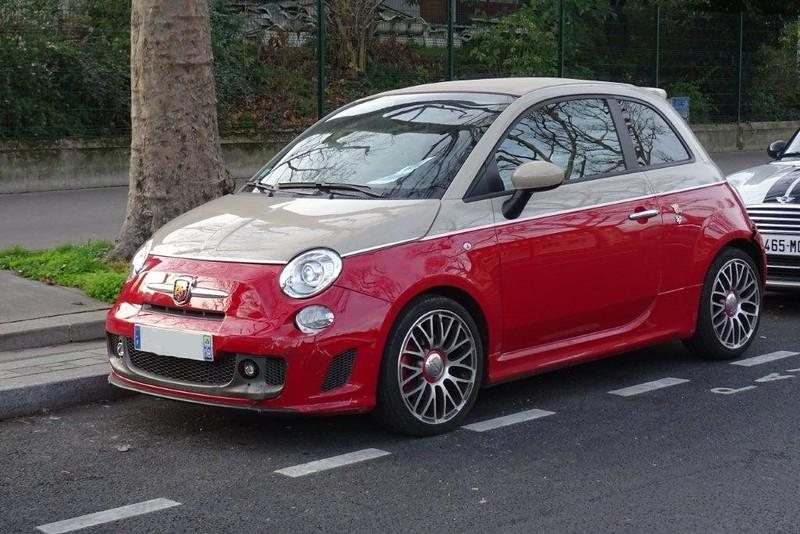windshield: (247, 84, 529, 203)
